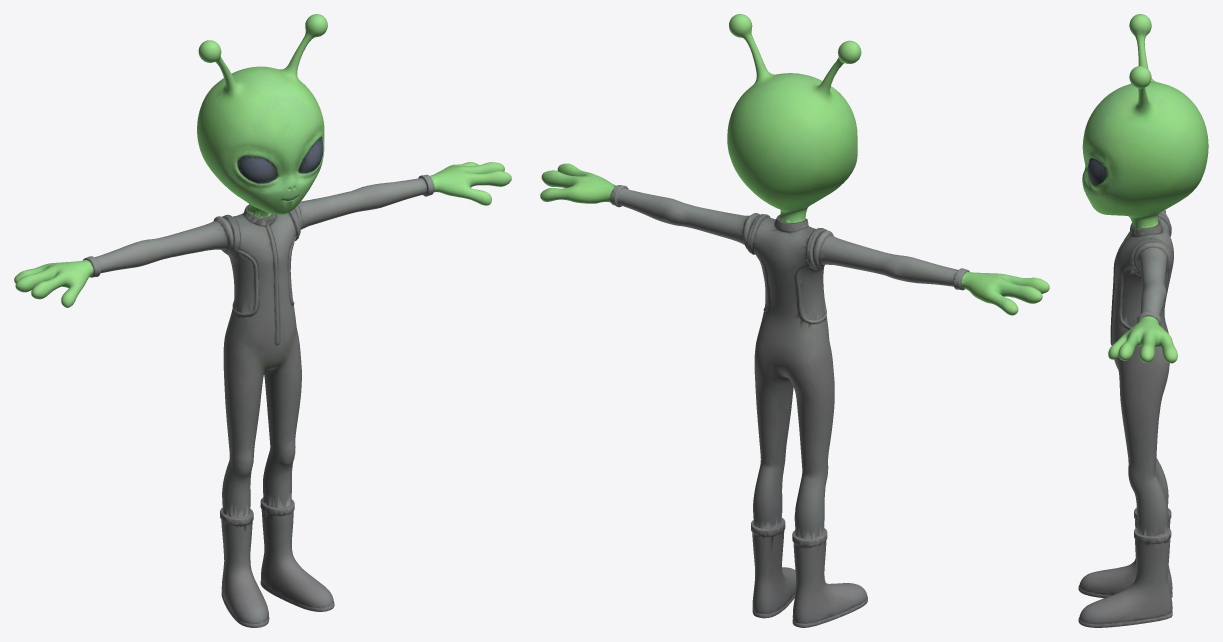
File: a3D-alien.glb
3 renders of one model, left to right at view 1: azimuth 30°, elevation 25°; view 2: azimuth 150°, elevation 25°; view 3: azimuth 270°, elevation 25°, orthographic. The views are drawn at different scales.
Visible parts, largest first — view 1: geometry_0; view 2: geometry_0; view 3: geometry_0.
Boxes of the visible parts, x1=… form: geometry_0: x1=14, y1=14, x2=511, y2=627; geometry_0: x1=540, y1=14, x2=1049, y2=627; geometry_0: x1=1078, y1=14, x2=1208, y2=627.
Size of the model in its own units: 1.71 by 1.9 by 0.3971.
1 material, 1 textured.
